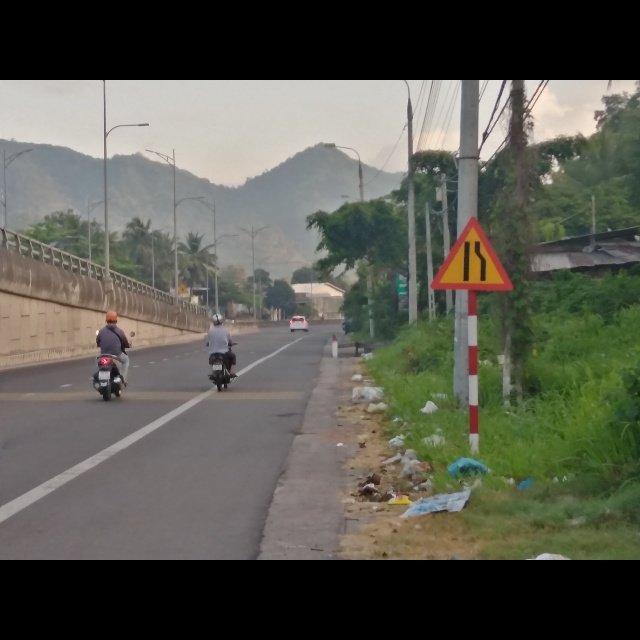Đường bị hẹp bên phải: (430, 216, 515, 293)
